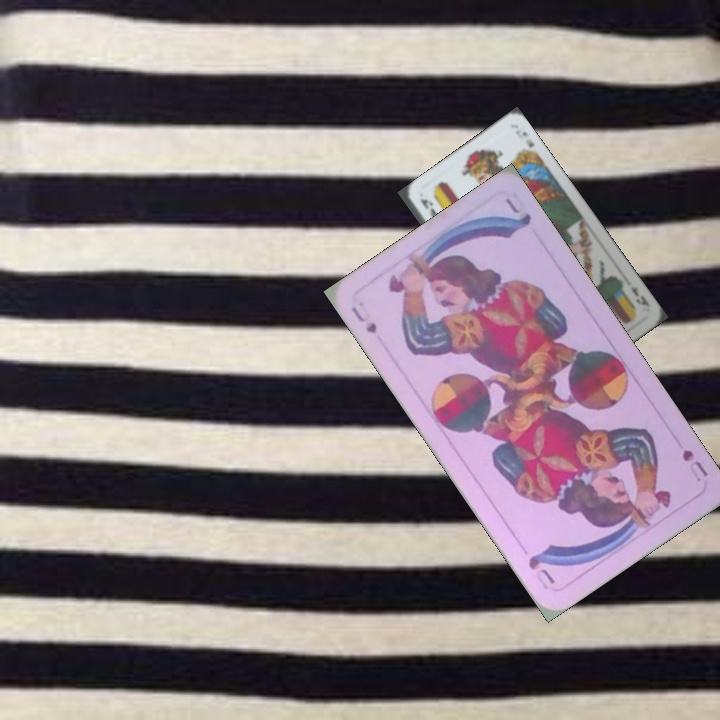EK: (626, 282, 653, 311), (416, 194, 440, 220)
SU: (678, 445, 711, 485), (346, 302, 380, 337)
